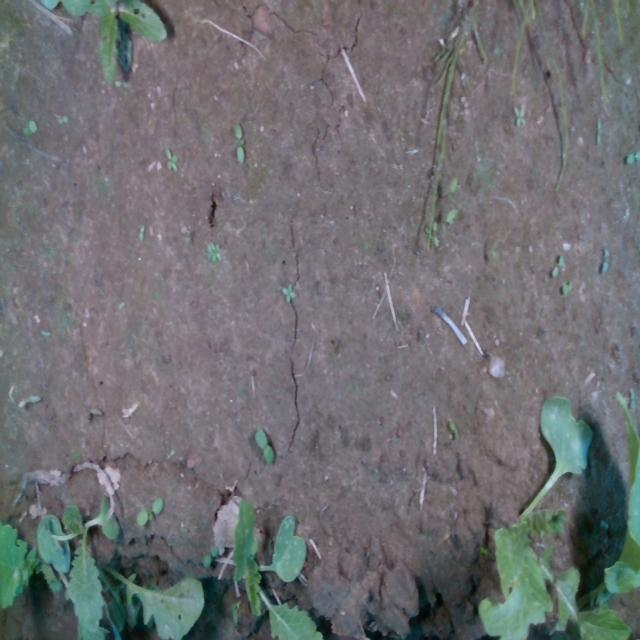weed: (134, 494, 164, 526), (253, 427, 275, 468), (232, 120, 244, 165), (164, 144, 178, 174), (207, 239, 223, 265), (280, 280, 296, 304), (512, 103, 526, 129), (599, 246, 611, 276), (550, 254, 564, 278), (22, 117, 36, 136), (561, 277, 574, 295), (138, 222, 144, 244)
